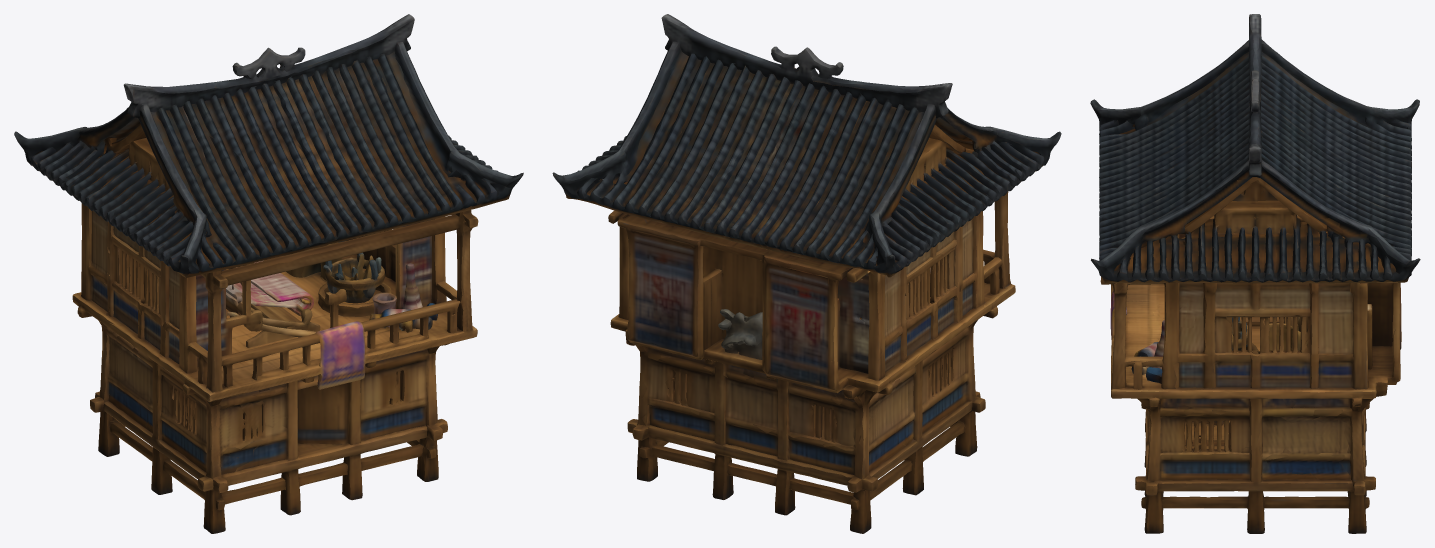
Rendered from embroidery-workshop.optimized.glb.
3 renders of one model, left to right at view 1: azimuth 30°, elevation 25°; view 2: azimuth 150°, elevation 25°; view 3: azimuth 270°, elevation 25°, orthographic. The views are drawn at different scales.
Parts seen in each view (by area): view 1: geometry_0; view 2: geometry_0; view 3: geometry_0.
Boxes of the visible parts, <box> form: geometry_0: <box>14,14,523,533</box>; geometry_0: <box>552,14,1061,533</box>; geometry_0: <box>1090,14,1420,533</box>.
Size of the model in its own units: 0.4723 by 0.55 by 0.4094.
Materials: 1 (1 with a texture image).
